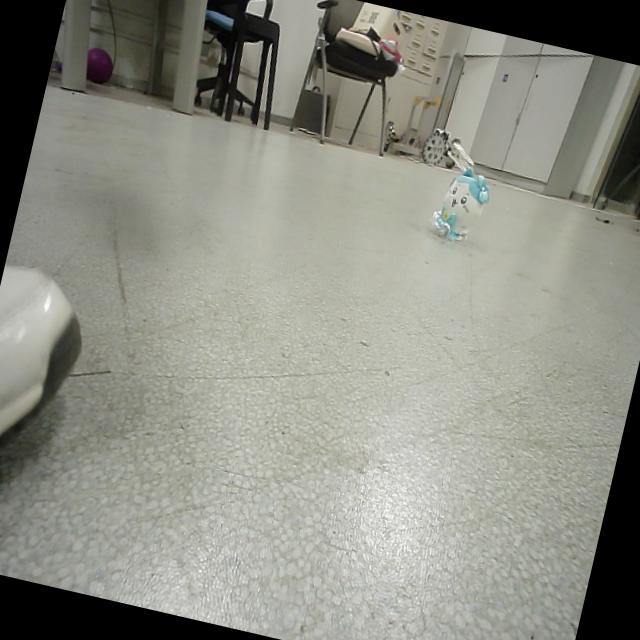xiaoba: (427, 156, 497, 250)
